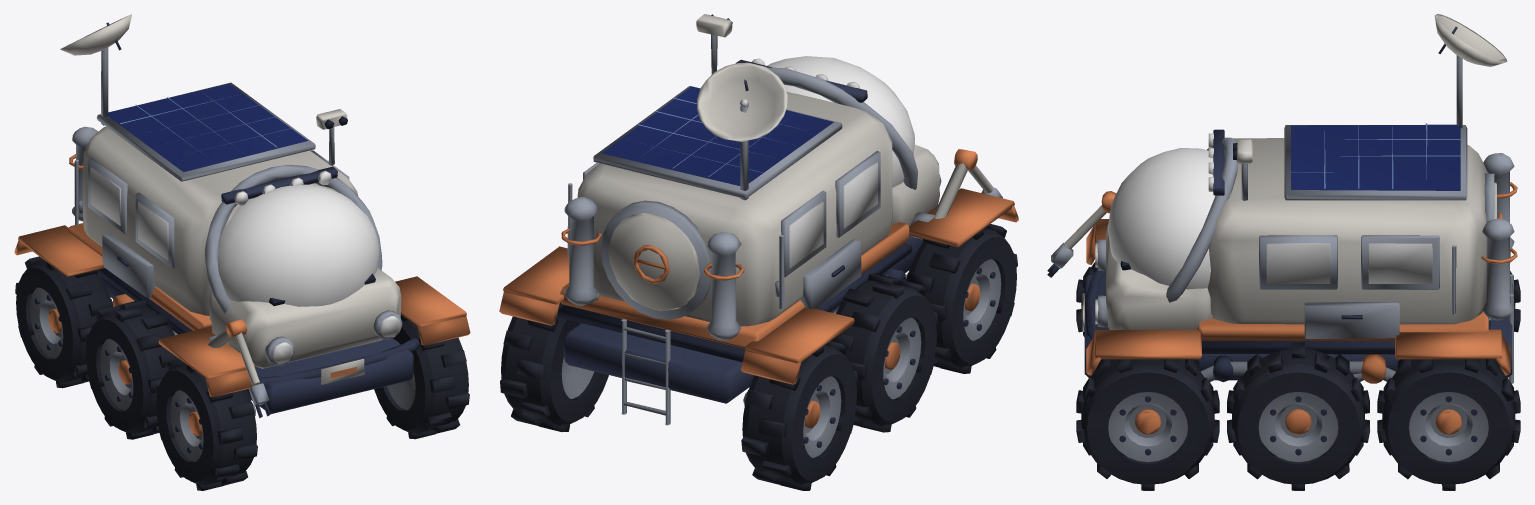
The model's file is rover_low.glb.
3 renders of one model, left to right at view 1: azimuth 30°, elevation 25°; view 2: azimuth 150°, elevation 25°; view 3: azimuth 270°, elevation 25°, orthographic. The views are drawn at different scales.
Parts seen in each view (by area): view 1: rover, wheel_l0, wheel_l1, wheel_l2, wheel_r0; view 2: rover, wheel_l2, wheel_l1, wheel_l0, wheel_r2; view 3: rover, wheel_r1, wheel_r2, wheel_r0.
Part boxes in pixels (x1,y1,x2,y2): rover: (14,14,470,418); wheel_l0: (155,359,257,490); wheel_l1: (85,300,179,439); wheel_l2: (15,256,112,388); wheel_r0: (374,314,469,439); rover: (499,14,1018,425); wheel_l2: (741,341,857,490); wheel_l1: (831,273,937,432); wheel_l0: (906,224,1017,373); wheel_r2: (500,302,608,431); rover: (1047,14,1517,383); wheel_r1: (1227,342,1369,490); wheel_r2: (1377,359,1520,490); wheel_r0: (1076,359,1219,490).
Bounding box in the file's own units: 3 × 3.86 × 4.41.
